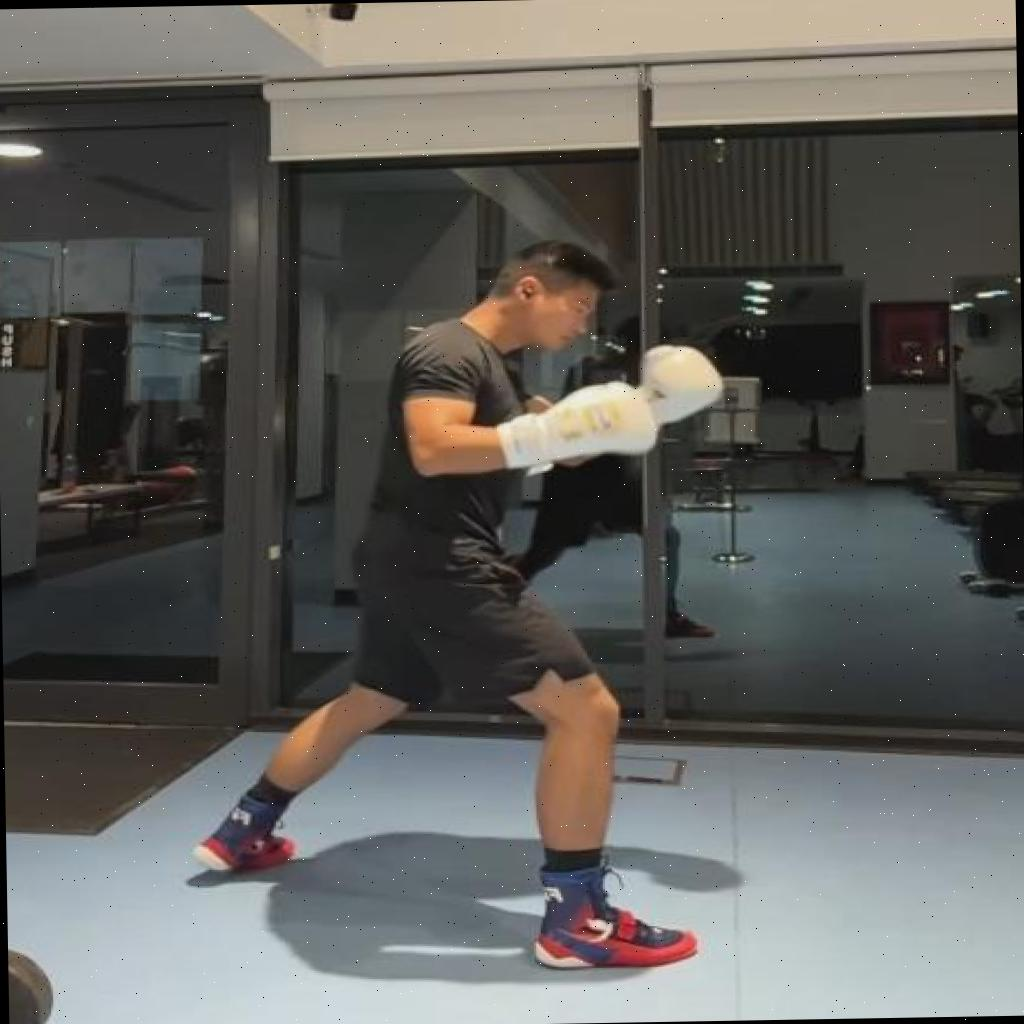no punch: (184, 228, 732, 980)
